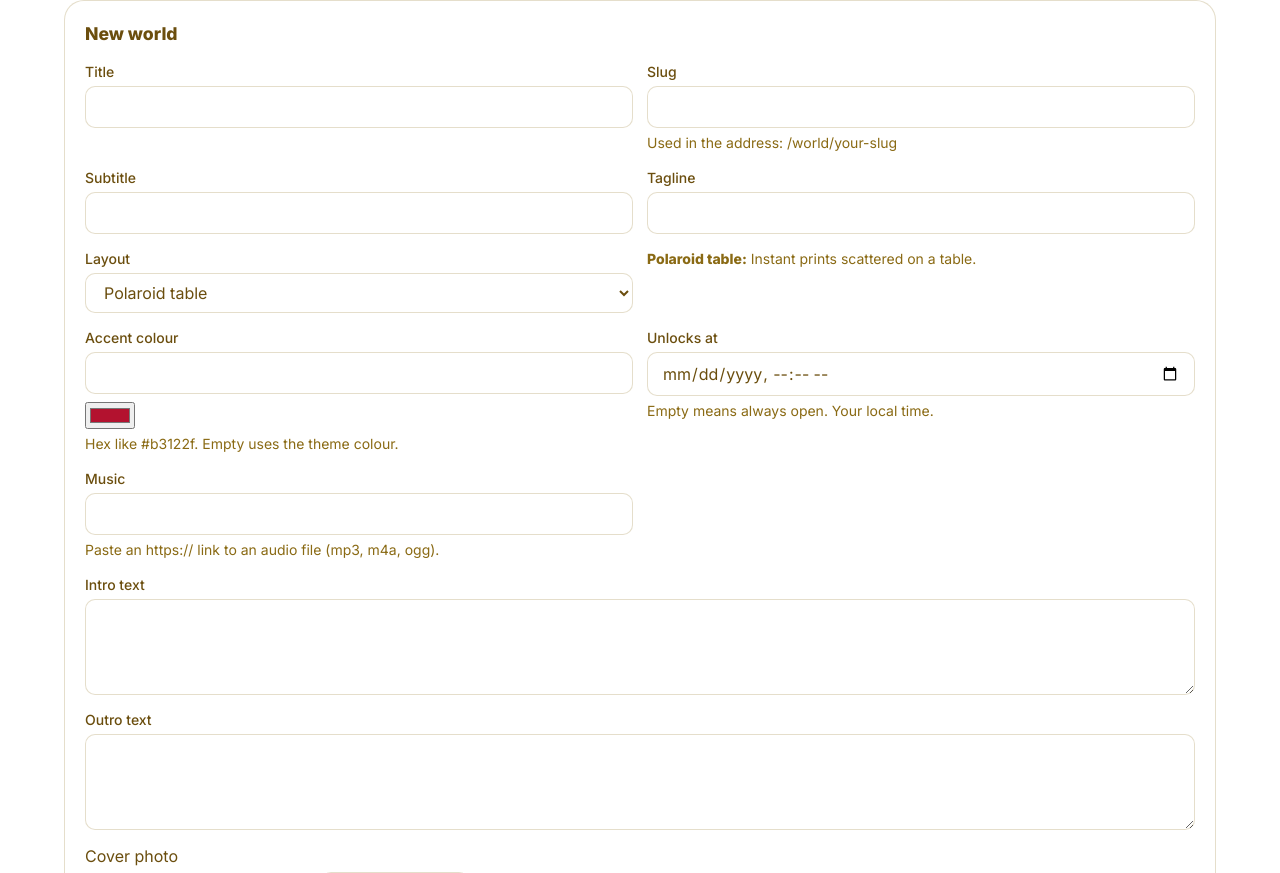
Test: WorldEditor form validation › updates the layout preview label live
The width and height of the screenshot is (1280, 873).
Expected: the element with test id "layout-preview" shows "Polaroid table", [647,250,742,267]
Select "Constellation" in the dropdown labelled "Layout" at (359,293), box [85,273,633,313]
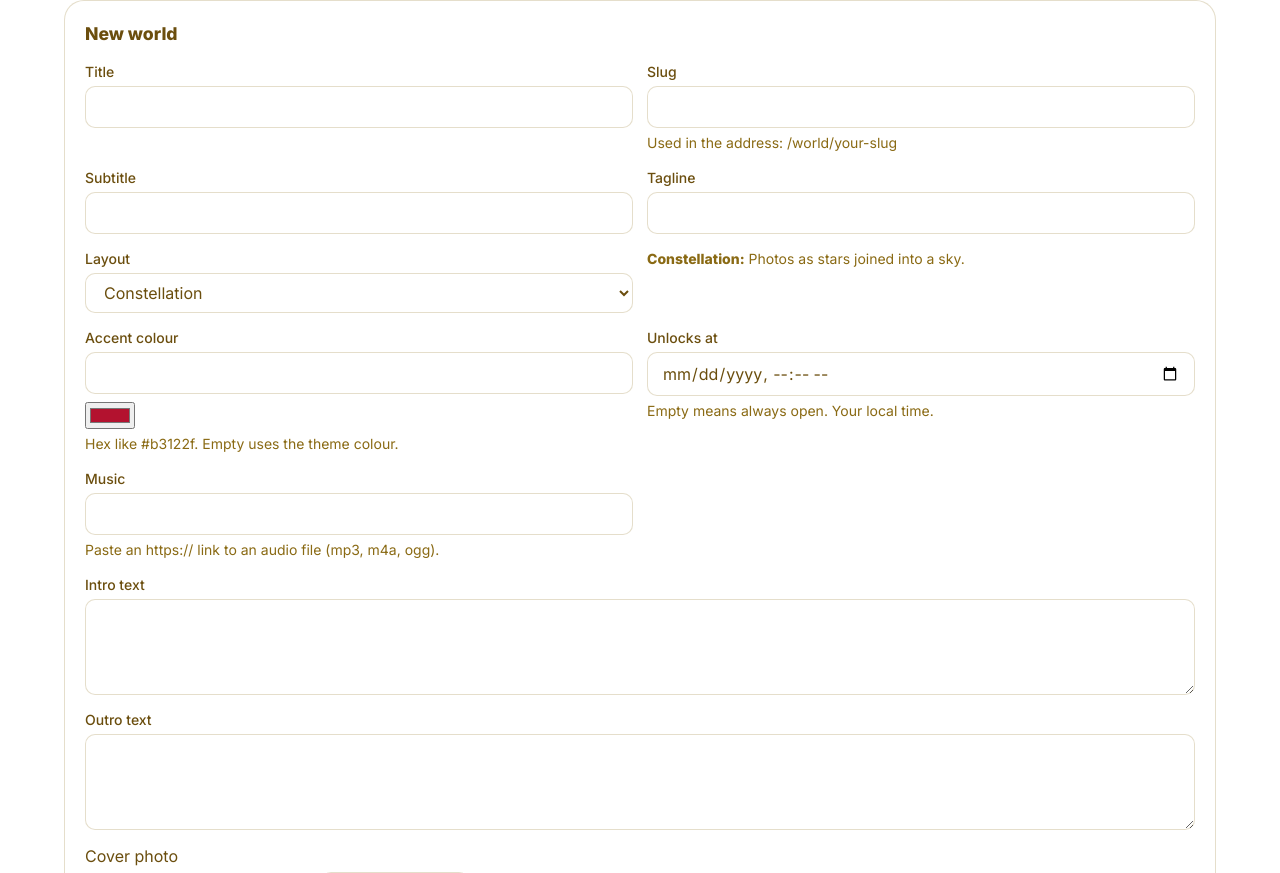
Expected: the element with test id "layout-preview" shows "Constellation", [647,250,740,267]
